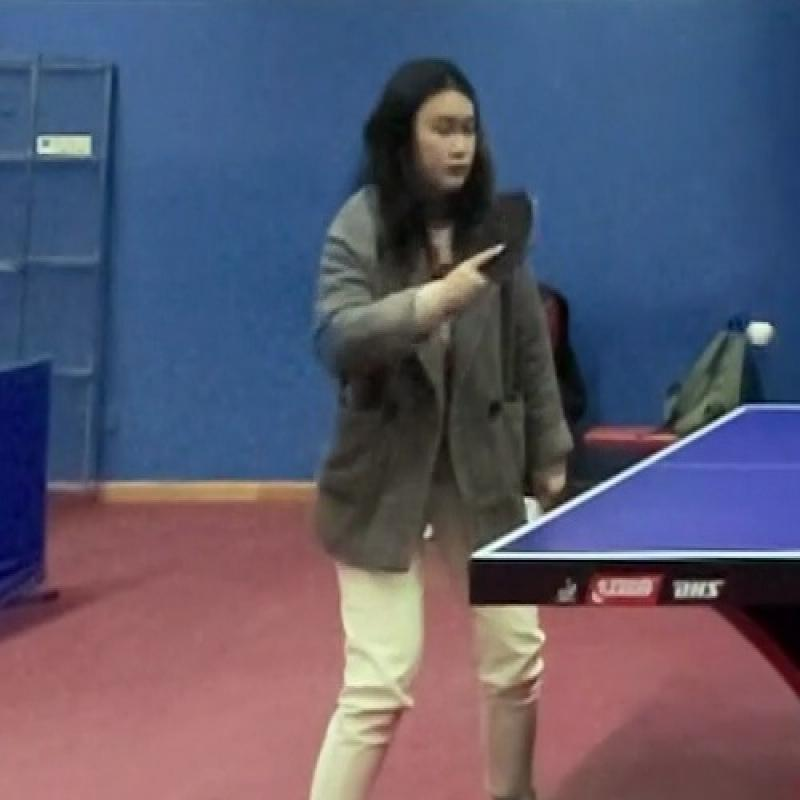bats: (447, 176, 544, 300)
